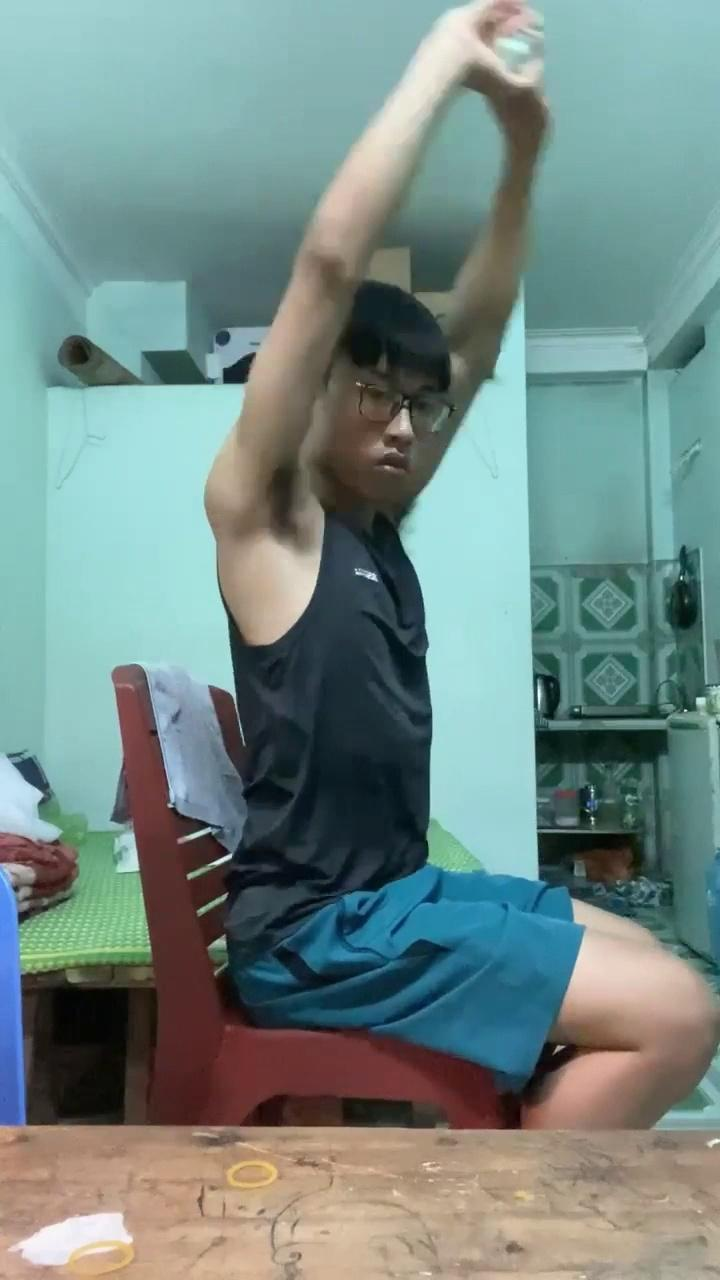GoodPosture: (205, 25, 719, 1130)
